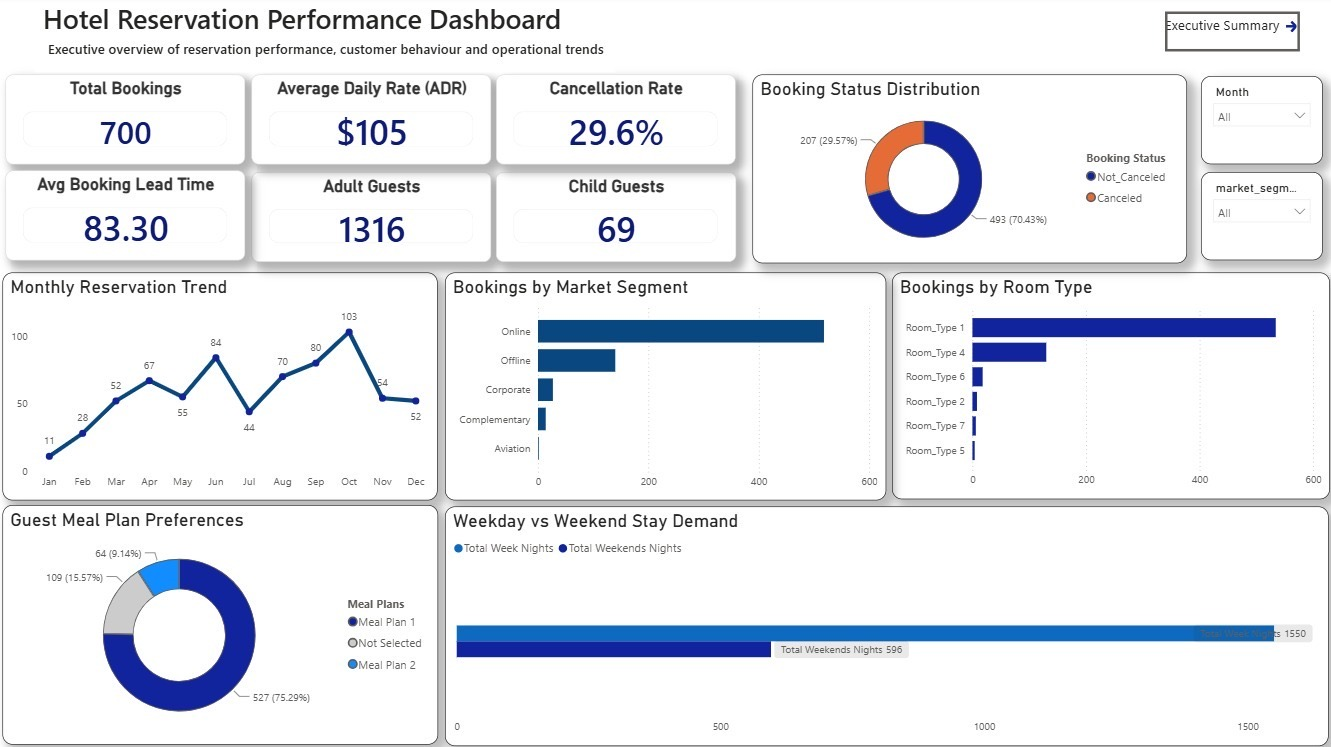

The page's visual inventory and layout, read from the dashboard file:
{"tool":"powerbi","page":{"name":"Reservation Performance Dashboard","canvas":[1600,900],"ordinal":0},"visuals":[{"type":"lineChart","title":"Monthly Reservation Trend","fields":{"Category":["Hotel_Reservation.Month"],"Y":["Hotel_Reservation.Total Reservation"]},"box":[5.4,331.2,519.2,272.2],"z":0},{"type":"cardVisual","title":"Total Bookings","fields":{"Data":["Hotel_Reservation.Total Reservation"]},"box":[9,94.9,286,107.4],"z":1000},{"type":"cardVisual","title":"Adult Guests","fields":{"Data":["Hotel_Reservation.Total Adults"]},"box":[302.6,211.3,286,107],"z":2000},{"type":"cardVisual","title":"Child Guests","fields":{"Data":["Hotel_Reservation.Total Children"]},"box":[594.4,211.3,286.5,107],"z":3000},{"type":"cardVisual","title":"Average Daily Rate (ADR)","fields":{"Data":["Hotel_Reservation.Average Room Price"]},"box":[302.6,94.9,286,107.4],"z":4000},{"type":"cardVisual","title":"Avg Booking Lead Time ","fields":{"Data":["Hotel_Reservation.Average Lead Time"]},"box":[9,209.5,286,107.4],"z":5000},{"type":"cardVisual","title":"Cancellation Rate","fields":{"Data":["Hotel_Reservation.Cancellation Rate"]},"box":[595,94.6,286,107.3],"z":6000},{"type":"clusteredBarChart","title":"Bookings by Room Type","fields":{"Category":["Hotel_Reservation.room_type_reserved"],"Y":["Hotel_Reservation.Total Reservation"]},"box":[1067.1,331.2,522.8,270.4],"z":7000},{"type":"clusteredBarChart","title":"Bookings by Market Segment","fields":{"Category":["Hotel_Reservation.market_segment_type"],"Y":["Hotel_Reservation.Total Reservation"]},"box":[533.6,331.2,526.4,272.2],"z":8000},{"type":"donutChart","title":"Guest Meal Plan Preferences","fields":{"Y":["Hotel_Reservation.Total Reservation"],"Category":["Hotel_Reservation.type_of_meal_plan"]},"box":[5.4,608.8,520,286],"z":9000},{"type":"donutChart","title":"Booking Status Distribution","fields":{"Y":["Hotel_Reservation.Total Reservation"],"Category":["Hotel_Reservation.booking_status"]},"box":[901,94.6,518.6,225.2],"z":10000},{"type":"clusteredBarChart","title":"Weekday vs Weekend Stay Demand","fields":{"Y":["Hotel_Reservation.Total Week Nights","Hotel_Reservation.Total Weekends Nights"]},"box":[533.6,610.6,1054.6,286],"z":11000},{"type":"textbox","box":[26.9,0,664.3,68],"z":12000},{"type":"textbox","box":[43.7,47.7,693.9,43.7],"z":13000},{"type":"slicer","fields":{"Values":["Hotel_Reservation.Month"]},"box":[1436,96.7,145,105],"z":14000},{"type":"textbox","box":[1369.7,19.7,173.7,34],"z":15000},{"type":"actionButton","box":[1532.7,19.7,21.5,35.8],"z":16000},{"type":"slicer","fields":{"Values":["Hotel_Reservation.market_segment_type"]},"box":[1436,211.3,145,105],"z":17000},{"type":"actionButton","box":[1393.8,19.9,161,47.7],"z":18000}]}

Visuals, with their boxes in screenshot pixels (x1, y1, x2, y2), scaled from the page's 1600x900 canvas onto the 1331x747 screenshot:
"Monthly Reservation Trend" lineChart: left=4, top=275, right=436, bottom=501
"Total Bookings" cardVisual: left=7, top=79, right=245, bottom=168
"Adult Guests" cardVisual: left=252, top=175, right=490, bottom=264
"Child Guests" cardVisual: left=494, top=175, right=733, bottom=264
"Average Daily Rate (ADR)" cardVisual: left=252, top=79, right=490, bottom=168
"Avg Booking Lead Time " cardVisual: left=7, top=174, right=245, bottom=263
"Cancellation Rate" cardVisual: left=495, top=79, right=733, bottom=168
"Bookings by Room Type" clusteredBarChart: left=888, top=275, right=1323, bottom=499
"Bookings by Market Segment" clusteredBarChart: left=444, top=275, right=882, bottom=501
"Guest Meal Plan Preferences" donutChart: left=4, top=505, right=437, bottom=743
"Booking Status Distribution" donutChart: left=750, top=79, right=1181, bottom=265
"Weekday vs Weekend Stay Demand" clusteredBarChart: left=444, top=507, right=1321, bottom=744
textbox: left=22, top=0, right=575, bottom=56
textbox: left=36, top=40, right=614, bottom=76
slicer - Hotel_Reservation.Month: left=1195, top=80, right=1315, bottom=167
textbox: left=1139, top=16, right=1284, bottom=45
actionButton: left=1275, top=16, right=1293, bottom=46
slicer - Hotel_Reservation.market_segment_type: left=1195, top=175, right=1315, bottom=263
actionButton: left=1159, top=17, right=1293, bottom=56
